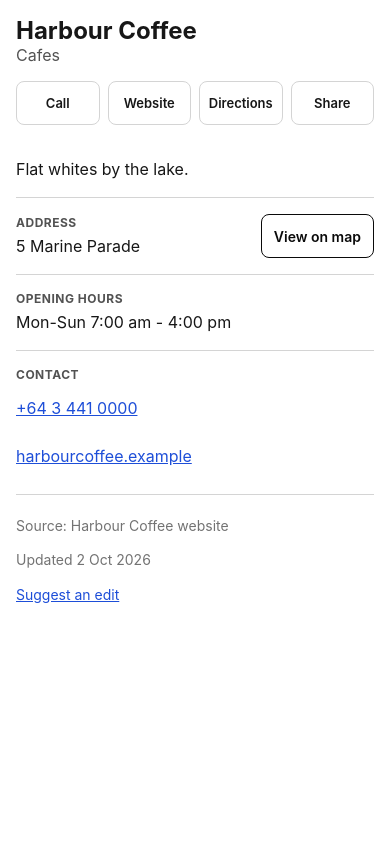
Test: Place › a phone without a mail app says so
Click the link "Suggest an edit".
click(68, 594)  # box [16,586,119,602]
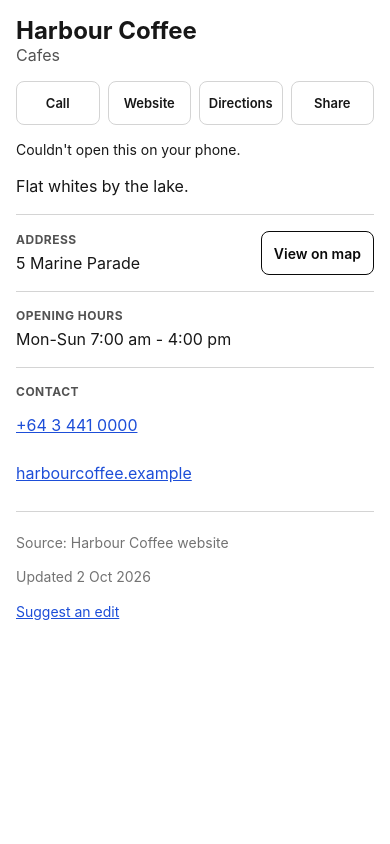
Check: the text "Couldn't open this on your phone." is shown, box [16,141,241,158]
